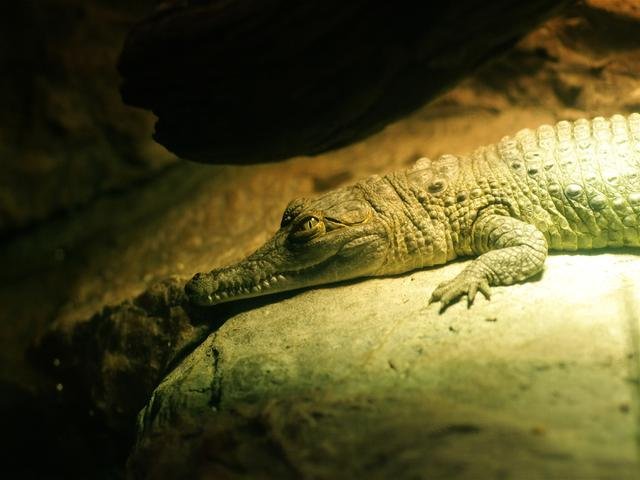crocodile: (149, 160, 640, 318)
